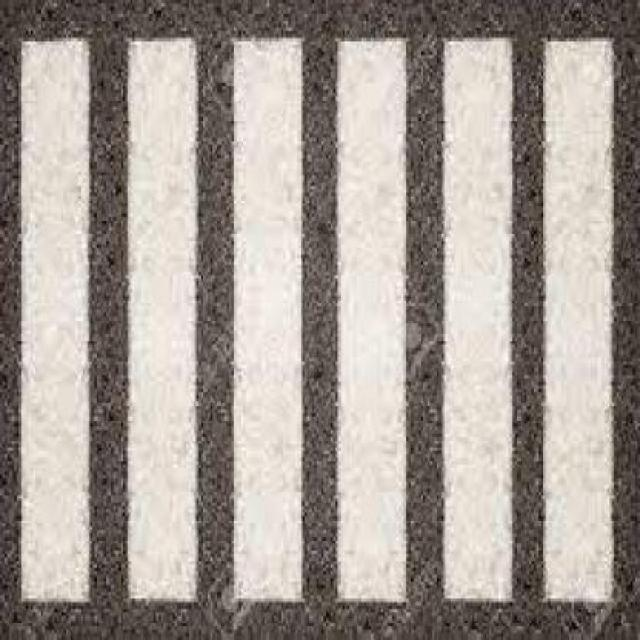crosswalk: (17, 37, 618, 610)
